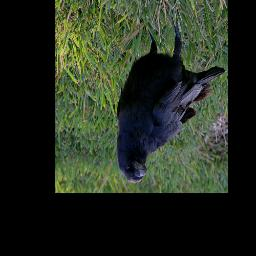Crow: (116, 13, 226, 184)
